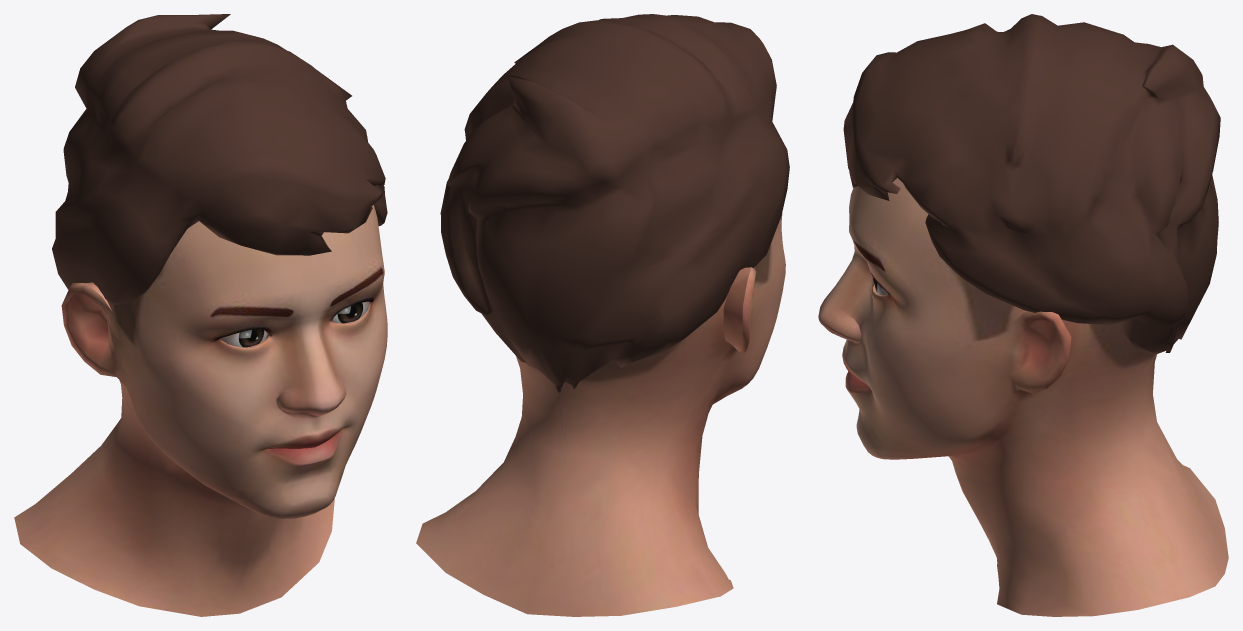
Rendered from man-GSB-3-Head.fbx.
3 renders of one model, left to right at view 1: azimuth 30°, elevation 25°; view 2: azimuth 150°, elevation 25°; view 3: azimuth 270°, elevation 25°, orthographic.
Parts seen in each view (by area): view 1: Wolf3D_Head.001, Wolf3D_Hair.001, EyeRight.001; view 2: Wolf3D_Hair.001, Wolf3D_Head.001; view 3: Wolf3D_Head.001, Wolf3D_Hair.001.
Part boxes in pixels (x1,y1,x2,y2): Wolf3D_Head.001: (14,205,387,616); Wolf3D_Hair.001: (52,14,387,304); EyeRight.001: (220,328,267,347); Wolf3D_Hair.001: (440,14,789,392); Wolf3D_Head.001: (416,213,785,616); Wolf3D_Head.001: (818,178,1228,616); Wolf3D_Hair.001: (843,14,1220,354).
Size of the model in its own units: 19.19 by 33.92 by 22.52.
Materials: 3 (3 with a texture image).
